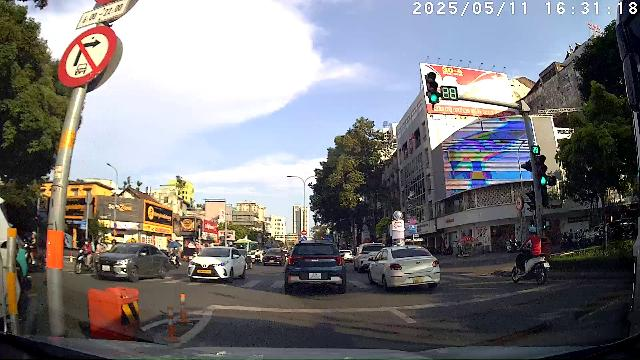103b-cam-oto-re-phai: (59, 26, 115, 86)
